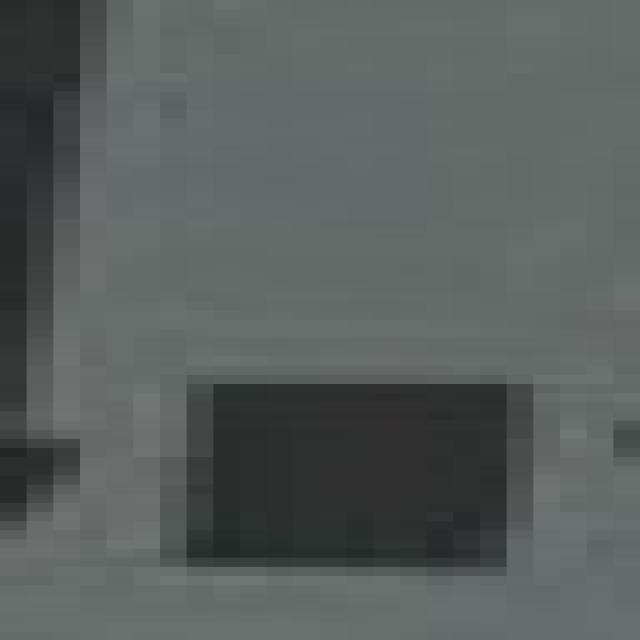.: (170, 340, 605, 611)
